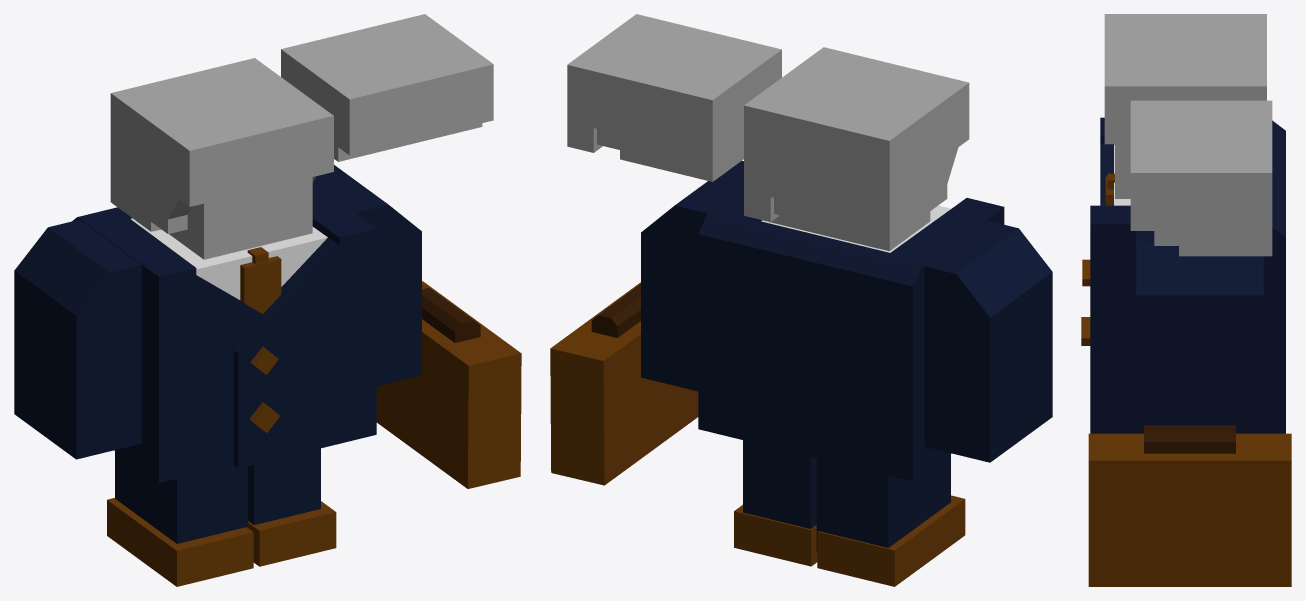
Rendered from dude.fbx.
3 renders of one model, left to right at view 1: azimuth 30°, elevation 25°; view 2: azimuth 150°, elevation 25°; view 3: azimuth 270°, elevation 25°, orthographic. The views are drawn at different scales.
Parts seen in each view (by area): view 1: body, hairF, armR, hairM, breifcase, legR, armL, legL, head; view 2: body, hairF, armR, hairM, breifcase, legR, armL, legL; view 3: breifcase, armL, hairM, body, hairF, head.
Boxes of the visible parts, bbox=[...] form: body: bbox=[72, 182, 376, 482]; hairF: bbox=[110, 58, 333, 233]; armR: bbox=[14, 219, 141, 459]; hairM: bbox=[281, 14, 493, 161]; breifcase: bbox=[376, 281, 521, 488]; legR: bbox=[107, 451, 253, 586]; armL: bbox=[313, 165, 421, 385]; legL: bbox=[248, 448, 336, 566]; head: bbox=[169, 177, 312, 259]; body: bbox=[698, 188, 1004, 481]; hairF: bbox=[744, 47, 969, 251]; armR: bbox=[924, 220, 1052, 462]; hairM: bbox=[567, 14, 781, 181]; breifcase: bbox=[550, 282, 698, 485]; legR: bbox=[816, 454, 965, 586]; armL: bbox=[641, 161, 743, 391]; legL: bbox=[734, 440, 817, 566]; breifcase: bbox=[1088, 425, 1291, 586]; armL: bbox=[1136, 231, 1263, 433]; hairM: bbox=[1130, 100, 1272, 256]; body: bbox=[1081, 117, 1285, 433]; hairF: bbox=[1104, 14, 1266, 148]; head: bbox=[1115, 144, 1130, 198].
Bounding box in the file's own units: 7.38 × 7.37 × 3.09.
